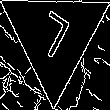L_SW: (31, 7, 78, 67)
